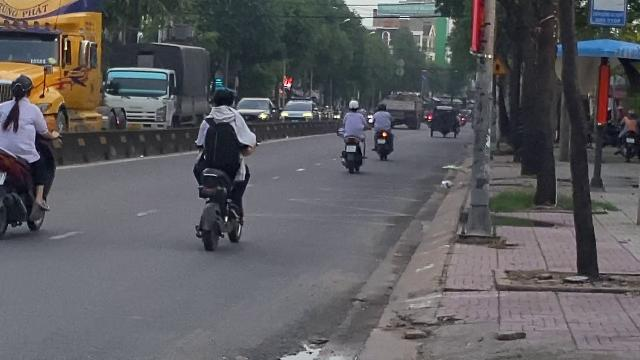helmet: (9, 74, 33, 100), (209, 87, 233, 109)
motorcyclist: (190, 84, 256, 252), (0, 73, 56, 239)
